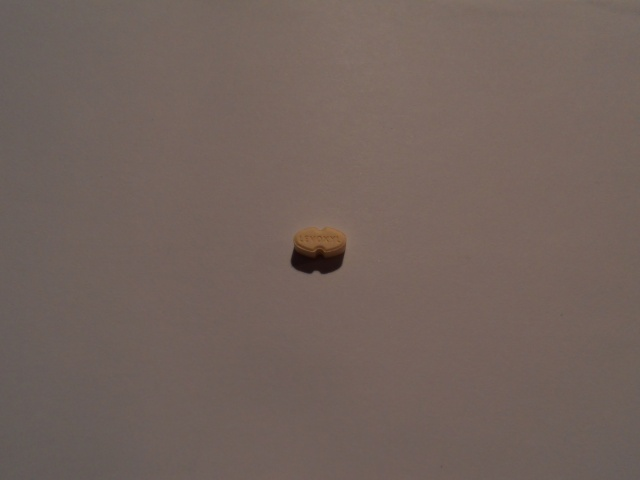E: (304, 233, 309, 245)
L: (336, 234, 342, 244), (299, 233, 304, 244)
O: (317, 234, 324, 242)
X: (324, 234, 330, 242)
Y: (308, 233, 316, 243), (330, 234, 336, 243)
